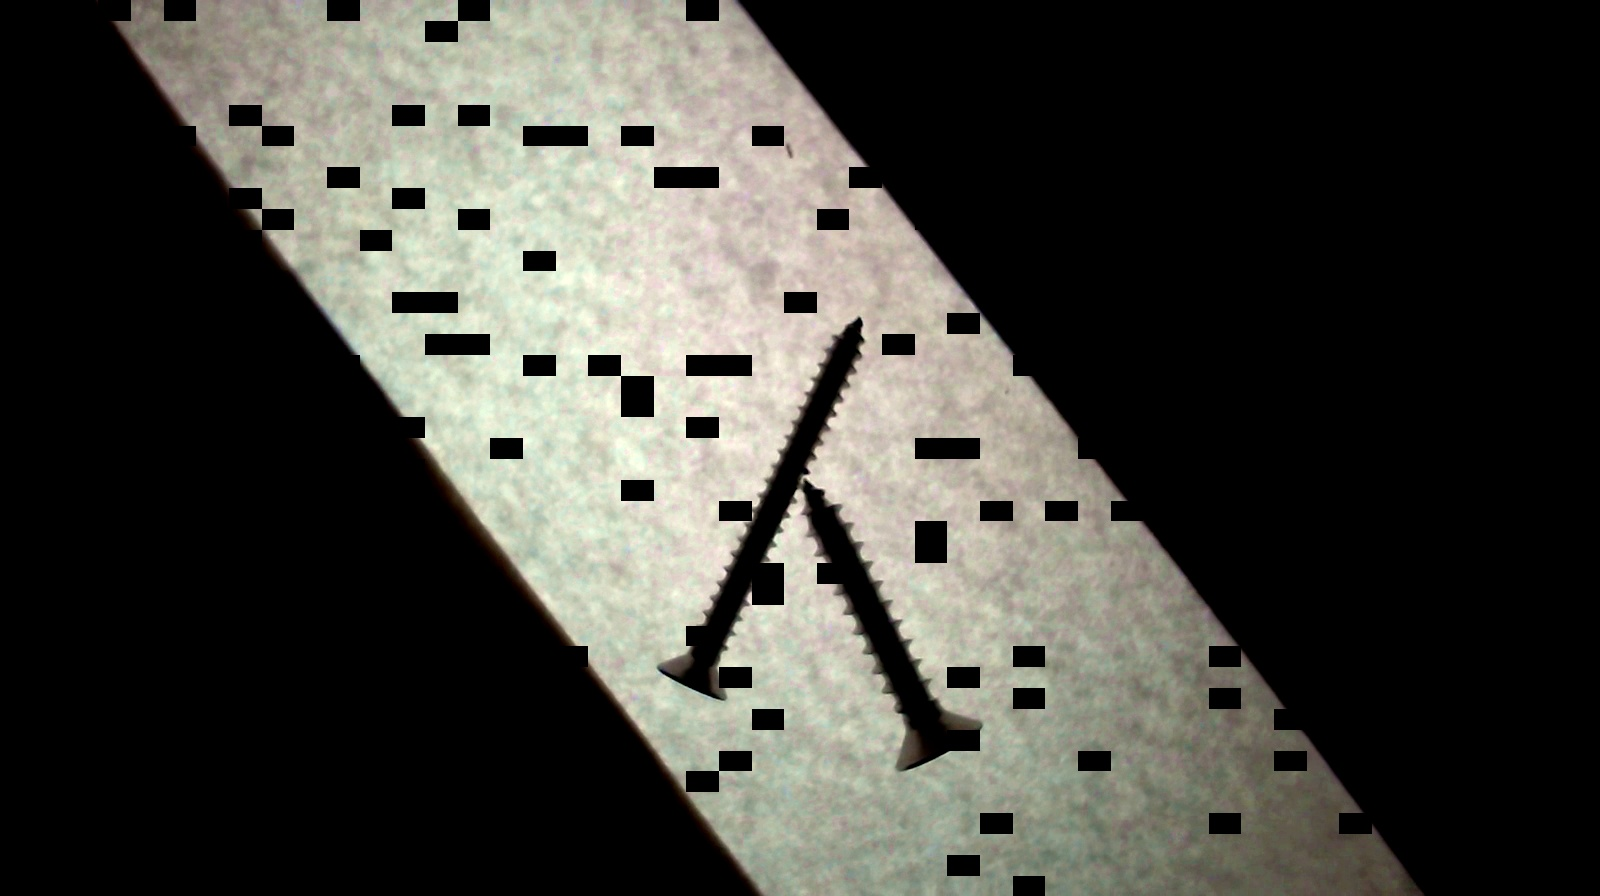S001: (796, 475, 990, 772)
S002: (654, 311, 863, 701)
